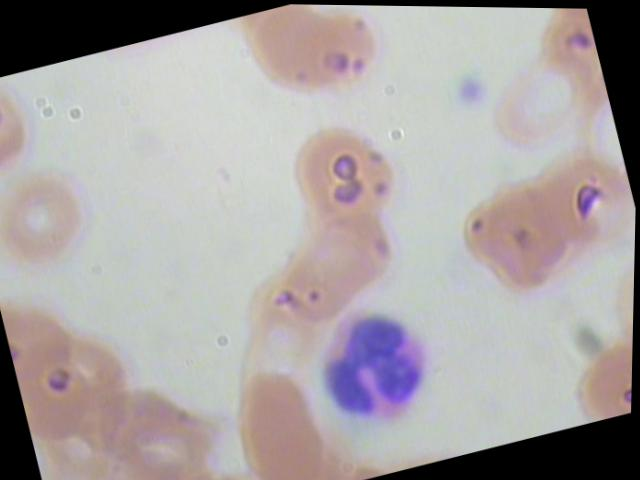Platelets: (444, 69, 491, 110)
Red Blood Cells: (477, 39, 612, 169), (221, 355, 340, 479), (446, 174, 562, 301), (280, 3, 408, 118), (481, 166, 596, 293), (0, 156, 111, 287), (525, 143, 637, 269), (303, 119, 415, 234), (231, 3, 346, 110), (299, 198, 408, 302), (0, 65, 75, 195), (561, 324, 633, 424)
White Blood Cells: (294, 288, 456, 447)
